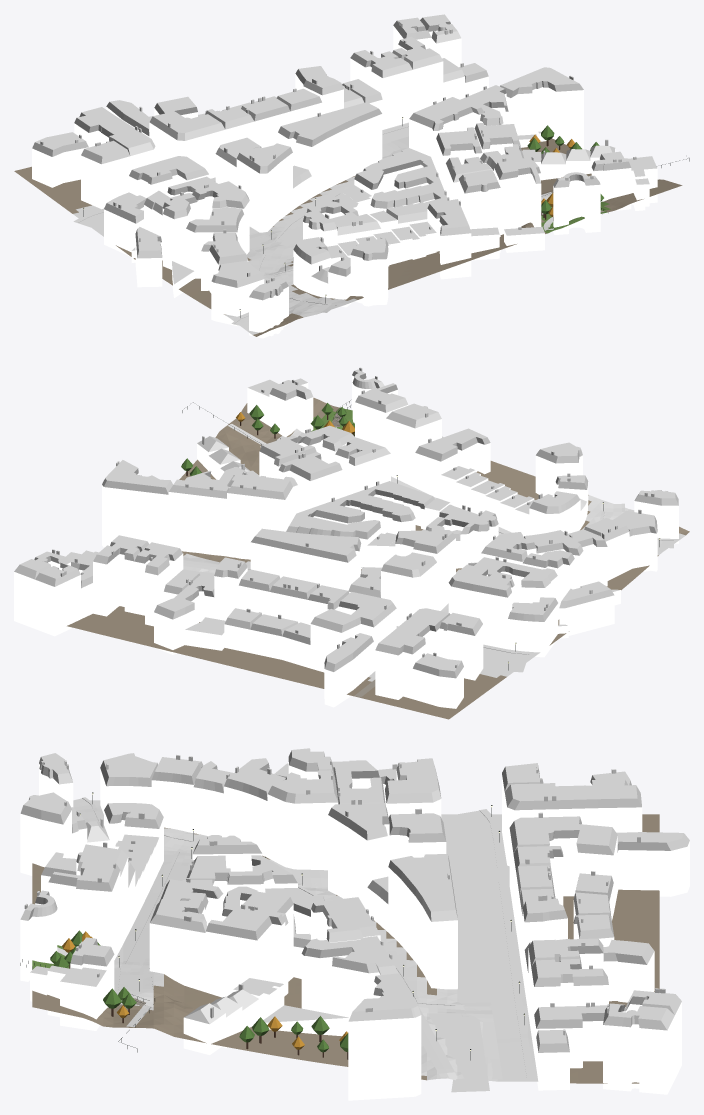
The model's file is zone_C6.glb.
3 views of the same model, one above another, from view 1: azimuth 30°, elevation 25°; view 2: azimuth 150°, elevation 25°; view 3: azimuth 270°, elevation 25° (orthographic). The views are drawn at different scales.
Visible parts, largest first — view 1: zone_C6_batiments, zone_C6_terrain, zone_C6_sol_NOCOL, zone_C6_decor_NOCOL; view 2: zone_C6_batiments, zone_C6_terrain, zone_C6_sol_NOCOL, zone_C6_decor_NOCOL; view 3: zone_C6_batiments, zone_C6_sol_NOCOL, zone_C6_terrain, zone_C6_decor_NOCOL.
Boxes of the visible parts, x1=… form: zone_C6_batiments: x1=32, y1=14, x2=657, y2=338; zone_C6_terrain: x1=14, y1=122, x2=682, y2=336; zone_C6_sol_NOCOL: x1=73, y1=123, x2=604, y2=327; zone_C6_decor_NOCOL: x1=83, y1=117, x2=689, y2=317; zone_C6_batiments: x1=14, y1=367, x2=678, y2=708; zone_C6_terrain: x1=67, y1=397, x2=689, y2=719; zone_C6_sol_NOCOL: x1=82, y1=412, x2=673, y2=697; zone_C6_decor_NOCOL: x1=181, y1=400, x2=660, y2=670; zone_C6_batiments: x1=20, y1=748, x2=689, y2=1100; zone_C6_sol_NOCOL: x1=57, y1=797, x2=534, y2=1092; zone_C6_terrain: x1=32, y1=800, x2=659, y2=1083; zone_C6_decor_NOCOL: x1=20, y1=792, x2=524, y2=1060.
Size of the model in its own units: 218 by 43.6 by 200.
